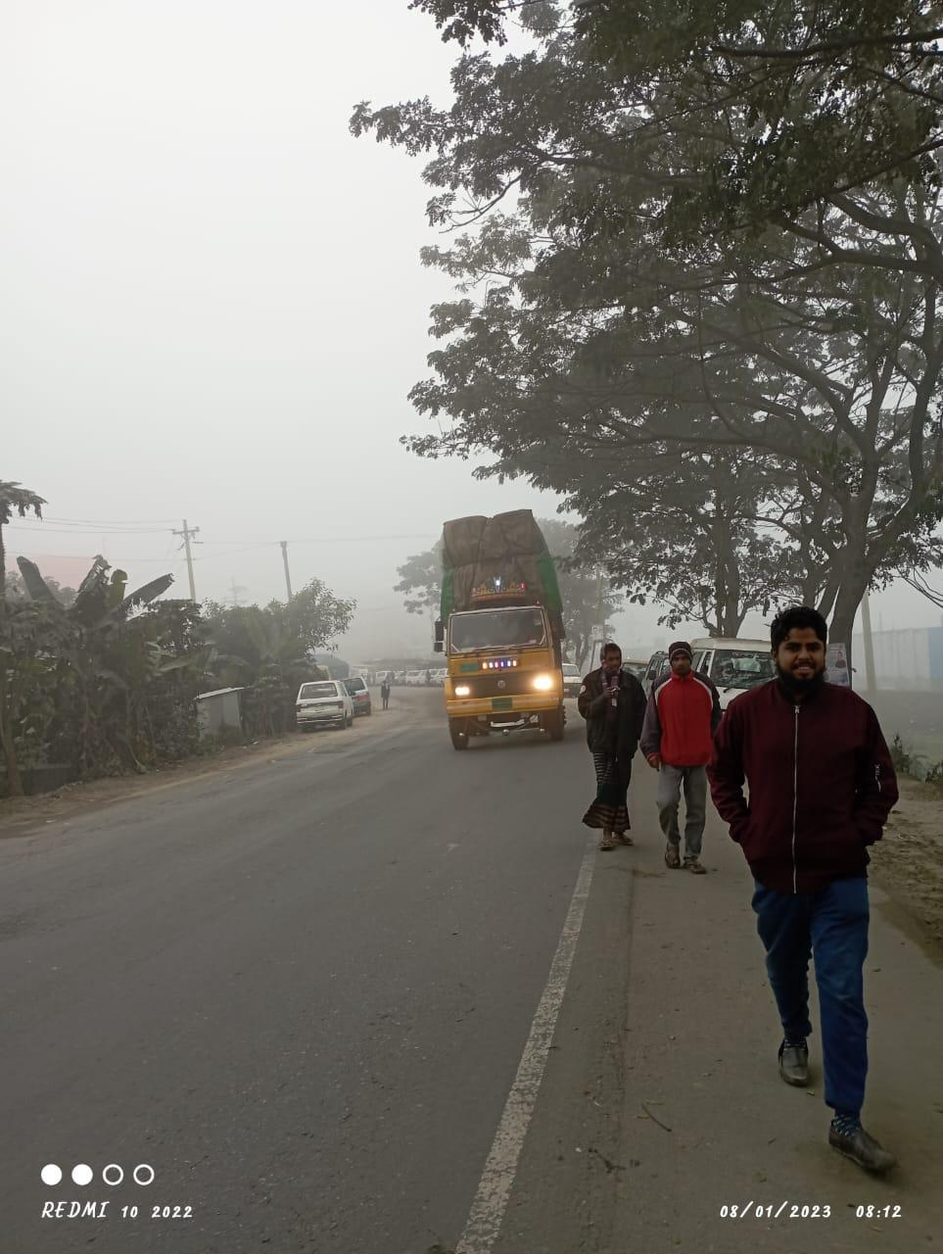Car: (288, 678, 349, 729)
Truck: (425, 505, 573, 749)
